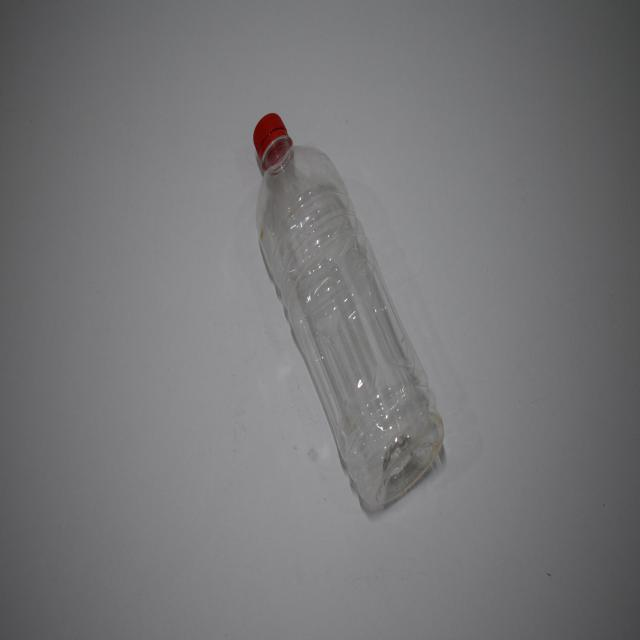bottle: (257, 116, 450, 544)
